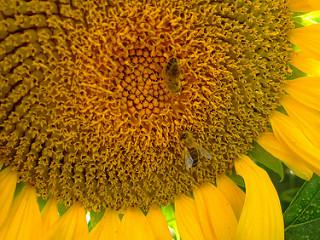sunflower: (1, 0, 320, 240)
